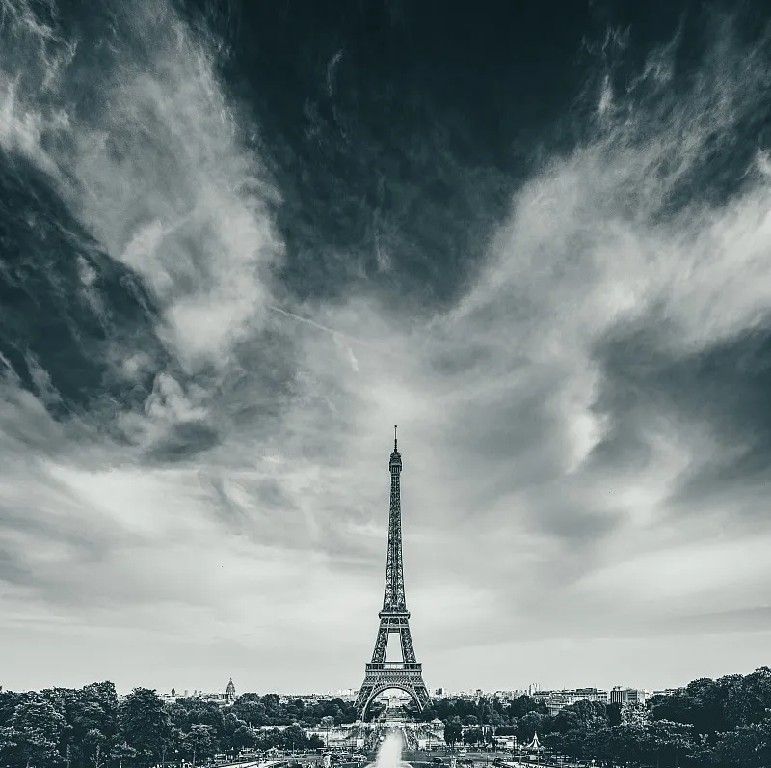Eiffel: (351, 425, 432, 721)
